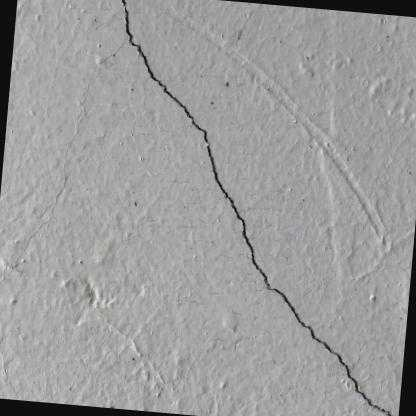crack: (121, 0, 395, 416)
